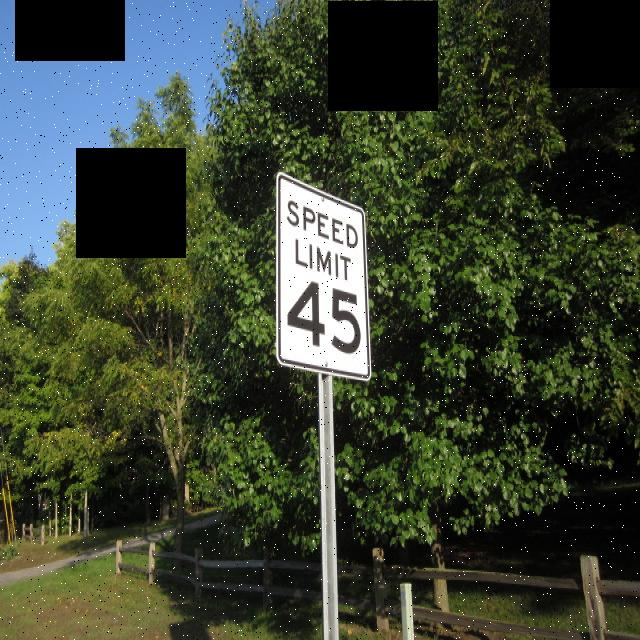regulatory: (273, 176, 372, 376)
